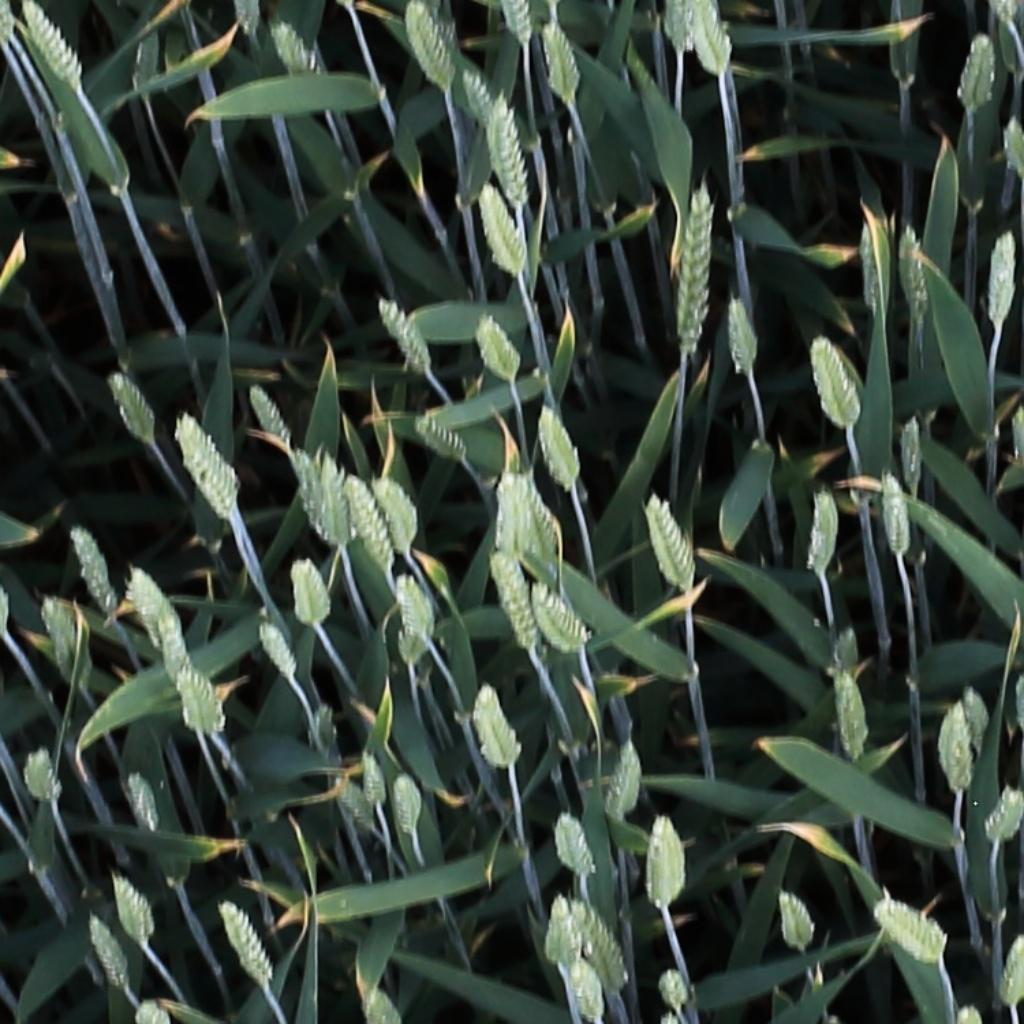0-0: (173, 412, 240, 518), (679, 189, 721, 357), (21, 3, 92, 94), (295, 450, 355, 556), (571, 895, 636, 991), (36, 593, 99, 691), (214, 897, 277, 992), (342, 471, 398, 576), (491, 548, 542, 658), (374, 290, 438, 375), (477, 176, 529, 278), (65, 520, 118, 617), (647, 492, 697, 593), (812, 331, 862, 430), (405, 0, 457, 95), (495, 478, 545, 573), (525, 583, 588, 658), (491, 95, 531, 211), (103, 365, 159, 446), (536, 401, 584, 494), (473, 681, 520, 775), (877, 901, 947, 962), (125, 557, 174, 641), (244, 376, 297, 453), (83, 912, 133, 993), (380, 474, 429, 555), (107, 868, 155, 950), (475, 308, 522, 386), (934, 700, 973, 794), (175, 663, 223, 737), (542, 16, 581, 103), (255, 617, 303, 686), (836, 667, 869, 767), (651, 811, 682, 916), (902, 218, 933, 323), (270, 15, 320, 80), (394, 569, 435, 648), (554, 809, 596, 886), (693, 0, 733, 80), (608, 740, 643, 828), (292, 551, 329, 633), (566, 954, 608, 1024), (122, 768, 162, 841), (988, 230, 1017, 329), (776, 886, 816, 957), (154, 611, 194, 682), (883, 468, 913, 561), (963, 28, 995, 114), (457, 62, 496, 131), (727, 292, 759, 376), (985, 785, 1024, 851), (415, 413, 469, 460), (547, 894, 578, 973), (811, 483, 836, 580), (903, 413, 928, 507), (959, 682, 992, 753), (996, 932, 1024, 1011), (24, 744, 57, 811), (335, 780, 375, 835), (393, 768, 421, 842), (359, 748, 390, 813), (999, 110, 1024, 184), (660, 961, 692, 1018), (502, 0, 537, 50), (669, 0, 693, 58), (991, 0, 1019, 32), (0, 0, 19, 46), (135, 1000, 169, 1024)
